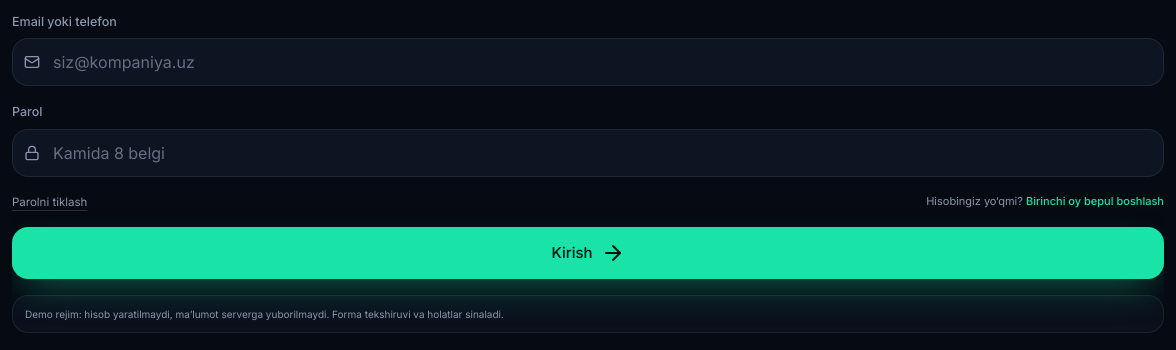
Test case: kirish formasi › to‘g‘ri ma’lumotda demo holatiga o‘tadi
In the field labelled "Email yoki telefon": (588, 62) [12, 38, 1164, 86], type "salom@balans.ai"
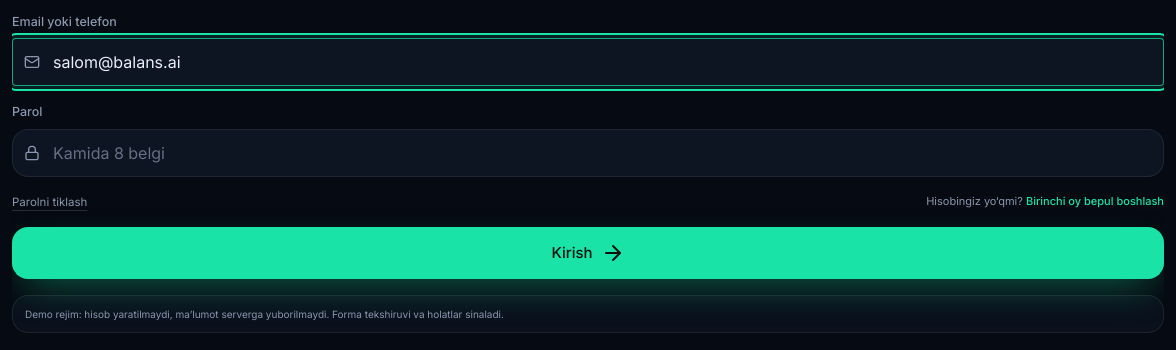
In the password field labelled "Parol": (588, 152) [12, 128, 1164, 176], type "kamida8belgi"
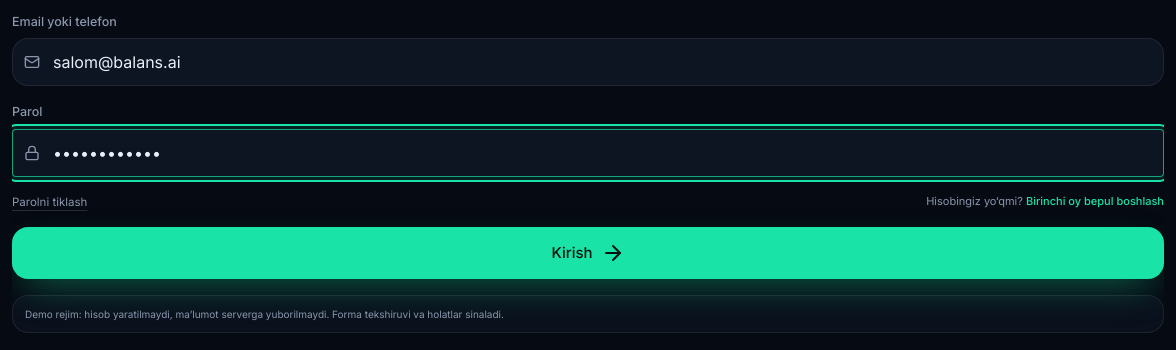
Click the button "Kirish": (588, 253) [12, 227, 1164, 279]
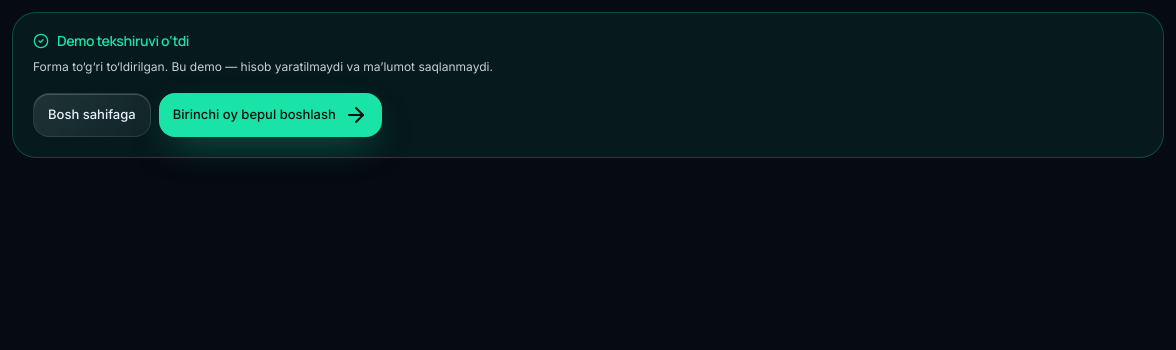
expect the heading "Demo tekshiruvi o‘tdi" is shown: met, box [57, 34, 189, 48]
